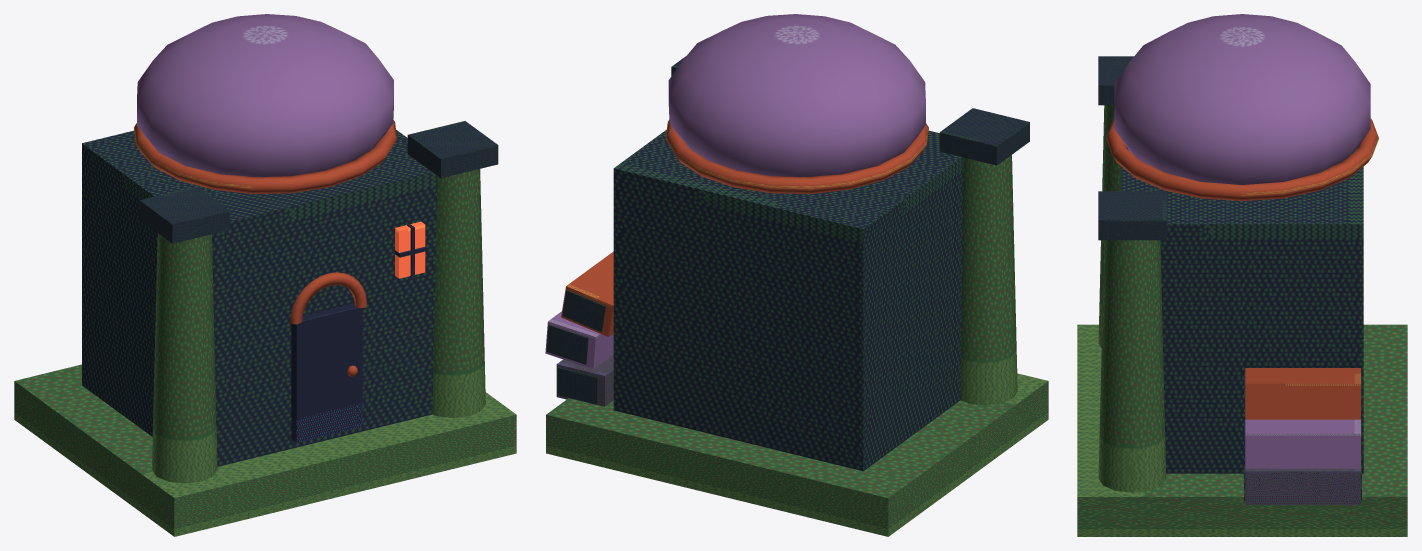
The model's file is batiment-bibliotheque.glb.
3 views of the same model, side by side, from view 1: azimuth 30°, elevation 25°; view 2: azimuth 150°, elevation 25°; view 3: azimuth 270°, elevation 25° (orthographic). The views are drawn at different scales.
Visible parts, largest first — view 1: MainHall, Dome, Foundation, Column-1.45, Column1.45, LibraryDoor, DomeRim, ColumnTop1.45, ColumnTop-1.45, LibraryDoorTop, LibraryWindow; view 2: MainHall, Dome, Foundation, Column-1.45, DomeRim, ColumnTop-1.45, Book2, Book1, Book0, BookPages0, BookPages2, BookPages1; view 3: MainHall, Dome, Foundation, Column1.45, Book2, Book1, DomeRim, Book0, ColumnTop1.45, Column-1.45, ColumnTop-1.45.
Boxes of the visible parts, <box> form: MainHall: <box>82,130,437,466</box>; Dome: <box>137,14,393,177</box>; Foundation: <box>14,364,516,536</box>; Column-1.45: <box>152,233,217,483</box>; Column1.45: <box>432,169,485,417</box>; LibraryDoor: <box>291,303,362,443</box>; DomeRim: <box>134,120,397,193</box>; ColumnTop1.45: <box>407,121,498,178</box>; ColumnTop-1.45: <box>139,186,229,243</box>; LibraryDoorTop: <box>289,272,367,324</box>; LibraryWindow: <box>395,221,425,278</box>; MainHall: <box>613,130,963,471</box>; Dome: <box>668,14,925,177</box>; Foundation: <box>546,373,1048,536</box>; Column-1.45: <box>960,155,1017,405</box>; DomeRim: <box>665,120,928,193</box>; ColumnTop-1.45: <box>939,108,1029,165</box>; Book2: <box>561,251,613,336</box>; Book1: <box>545,311,613,369</box>; Book0: <box>556,354,613,406</box>; BookPages0: <box>557,367,597,404</box>; BookPages2: <box>562,290,605,332</box>; BookPages1: <box>546,325,588,364</box>; MainHall: <box>1121,147,1363,473</box>; Dome: <box>1114,14,1370,184</box>; Foundation: <box>1077,324,1407,536</box>; Column1.45: <box>1098,240,1166,492</box>; Book2: <box>1245,368,1360,419</box>; Book1: <box>1245,419,1360,468</box>; DomeRim: <box>1106,118,1378,200</box>; Book0: <box>1245,468,1360,504</box>; ColumnTop1.45: <box>1098,191,1166,240</box>; Column-1.45: <box>1098,105,1121,347</box>; ColumnTop-1.45: <box>1098,56,1133,105</box>.
Size of the model in its own units: 4.36 by 4.6 by 3.31.
Materials: 3 (3 with a texture image).
